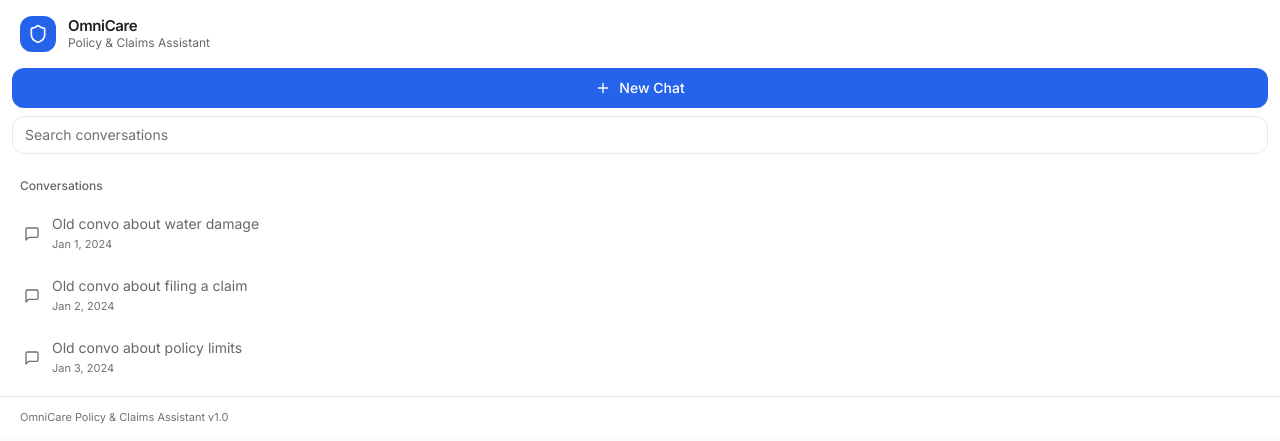
Scenario: Sidebar conversation actions › renames a conversation through the API and shows the new title
Check: the text "Old convo about water damage" is shown, box [52,215,259,232]
Hover over the element showing "Old convo about water damage Jan 1, 2024" at [640, 234], box [12,204,1268,264]
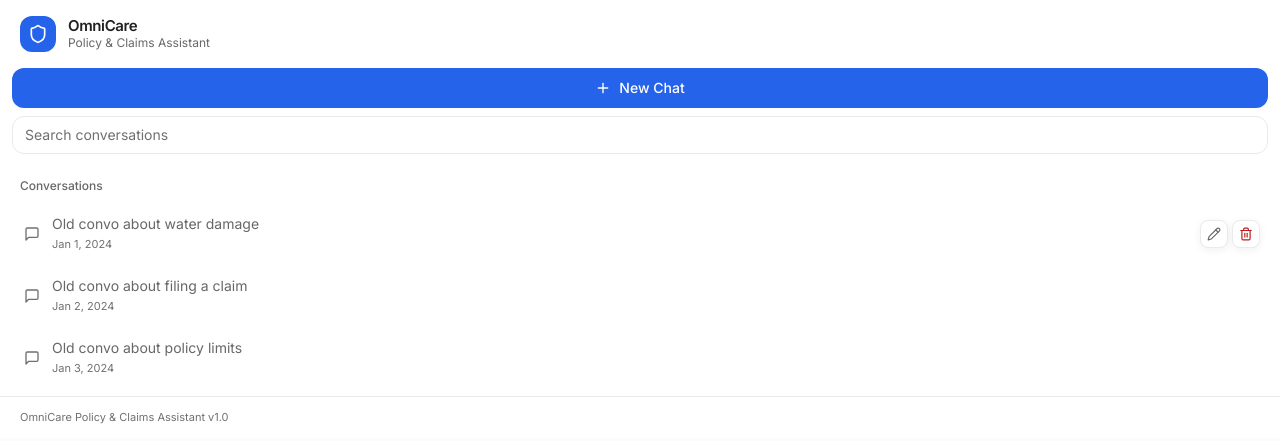
Click the button named "Rename Old convo about water damage" at [1214, 234], box [1200,220,1228,248]
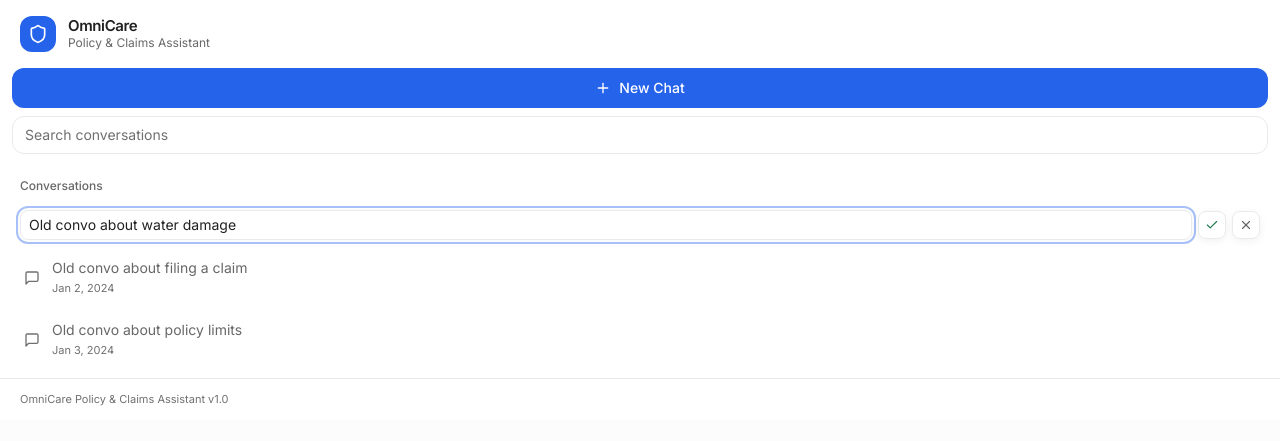
Replace the text in the field named "New title for Old convo about water damage" with "  Kitchen flood claim  " at [606, 225], box [20,210,1192,240]
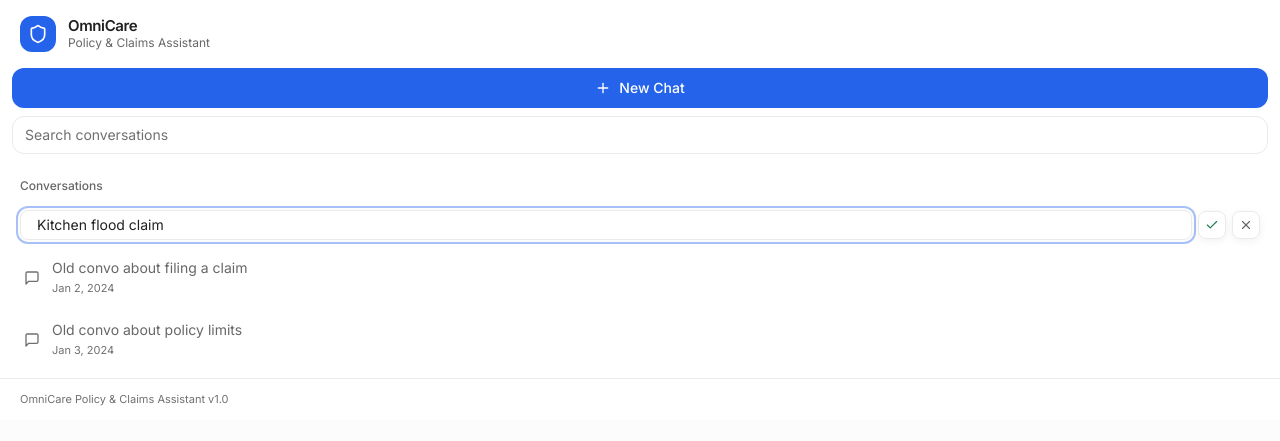
Submit the form, box [12,204,1268,246]
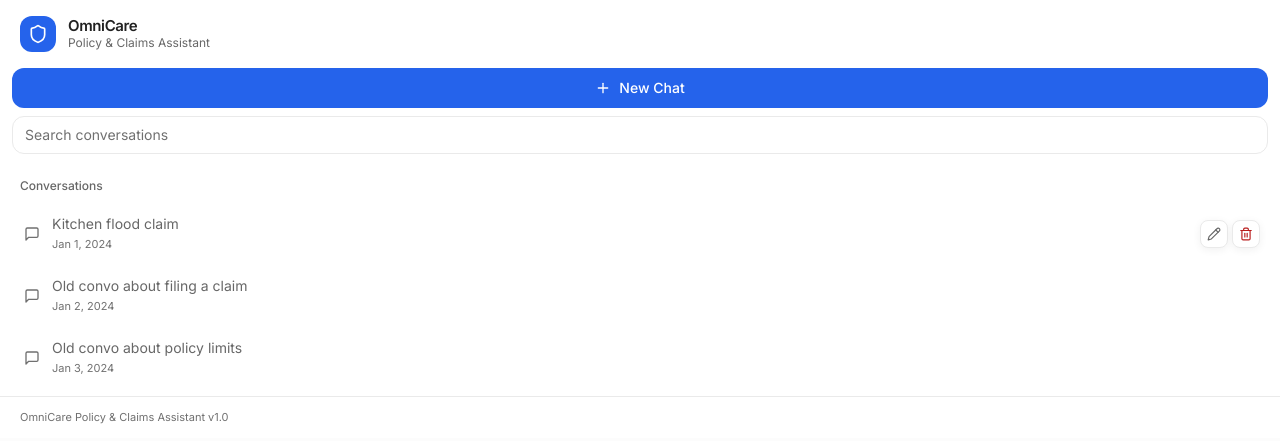
Check: the text "Kitchen flood claim" is shown, box [52,215,179,232]
